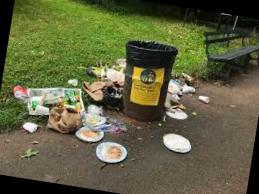trash: (0, 77, 136, 168), (74, 54, 126, 111), (160, 68, 200, 126), (148, 132, 198, 156), (191, 91, 214, 110)
trash_can_overflow: (0, 6, 238, 194)
